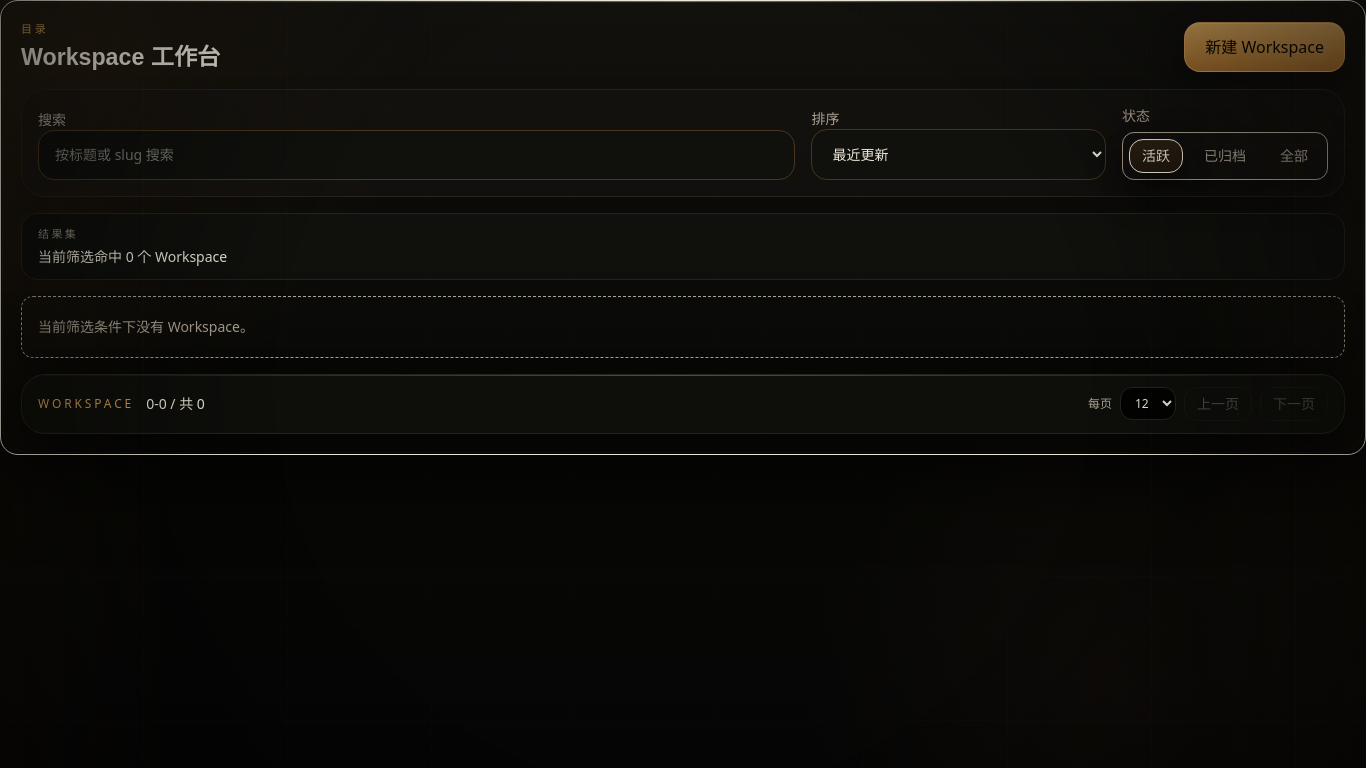
Test: WorkspacesPage › shows inline validation error for invalid slug
Click the button "新建 Workspace": (1265, 47) [1184,22,1345,72]
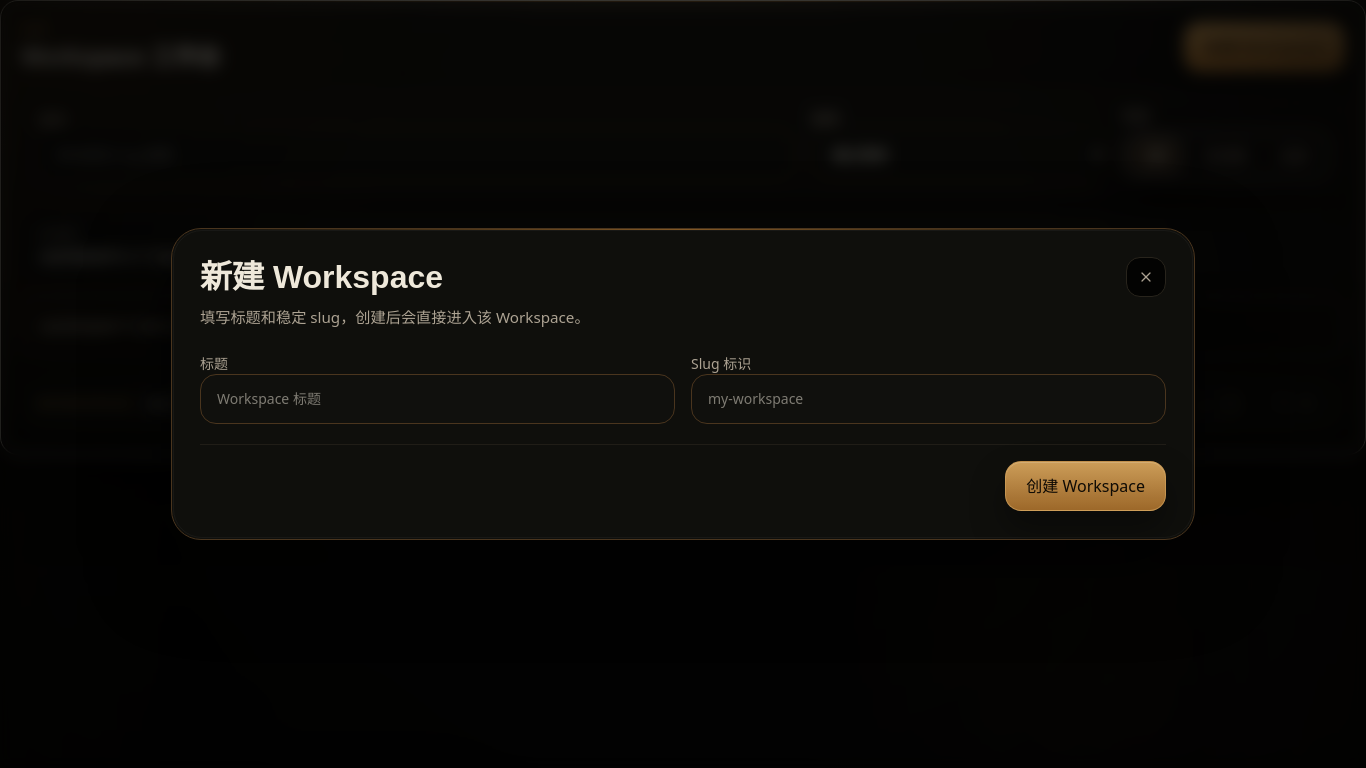
In the field labelled "标题": (438, 399) [200,374,675,424], type "Bad"
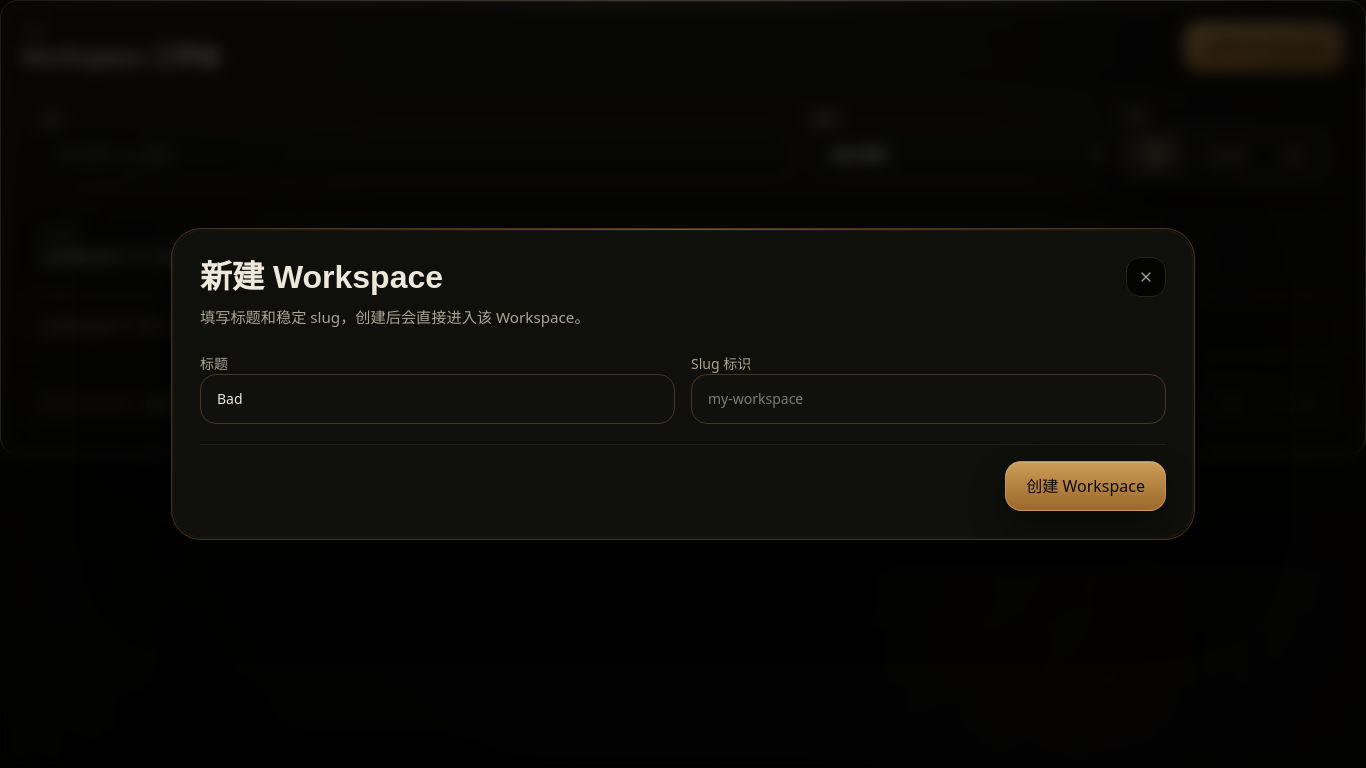
In the field labelled "Slug 标识": (928, 399) [691,374,1166,424], type "--nope--"
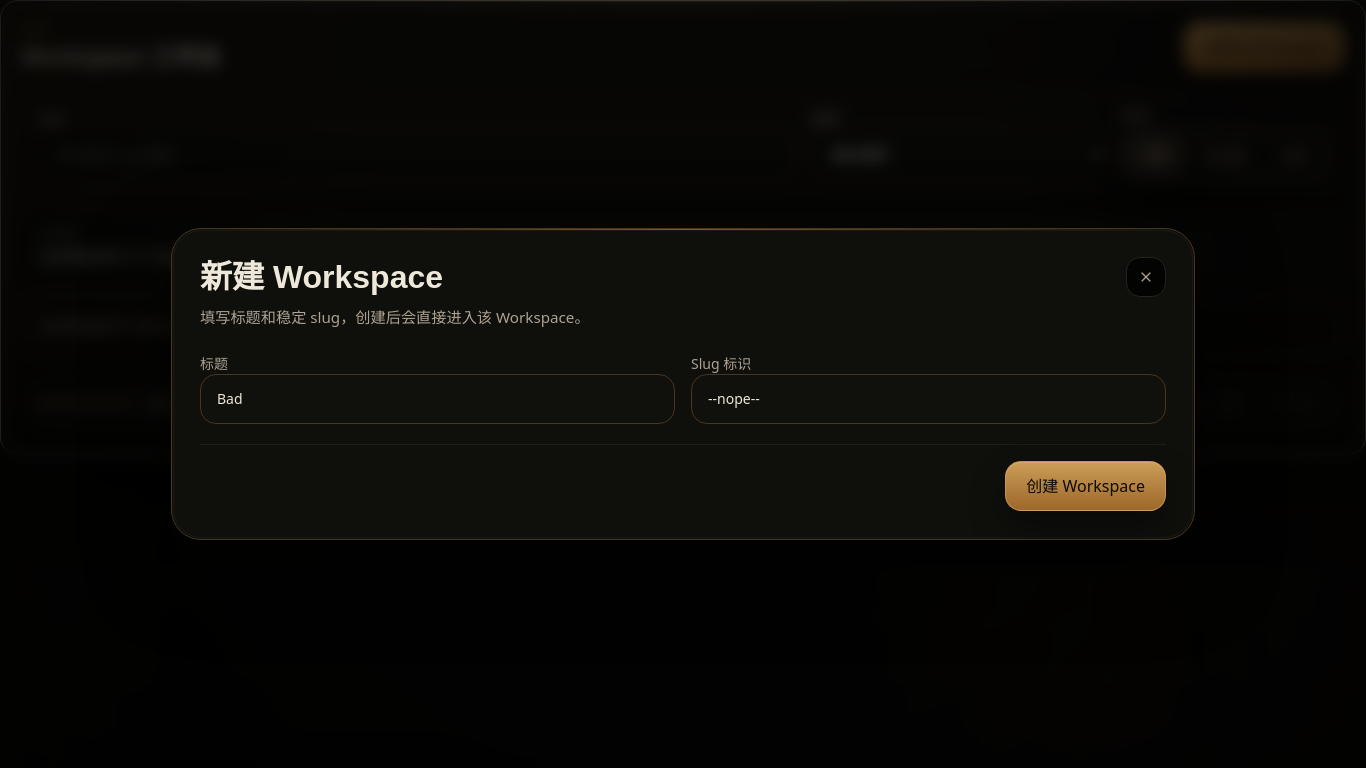
Click the button "创建 Workspace": (1086, 486) [1005,461,1166,511]
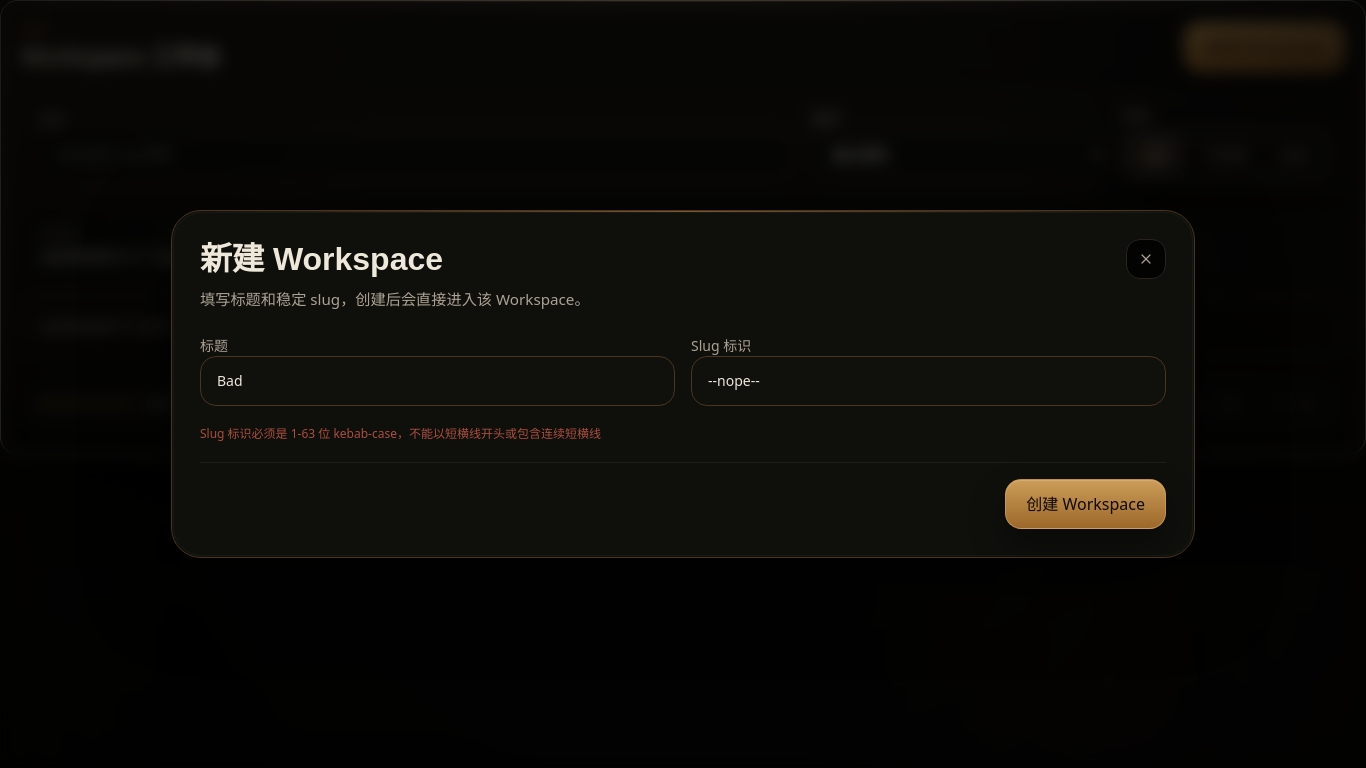
Expected: the text "Slug 标识必须是 1-63 位 kebab-case，不能以短横线开头或包含连续短横线" is shown, [200,425,601,442]
